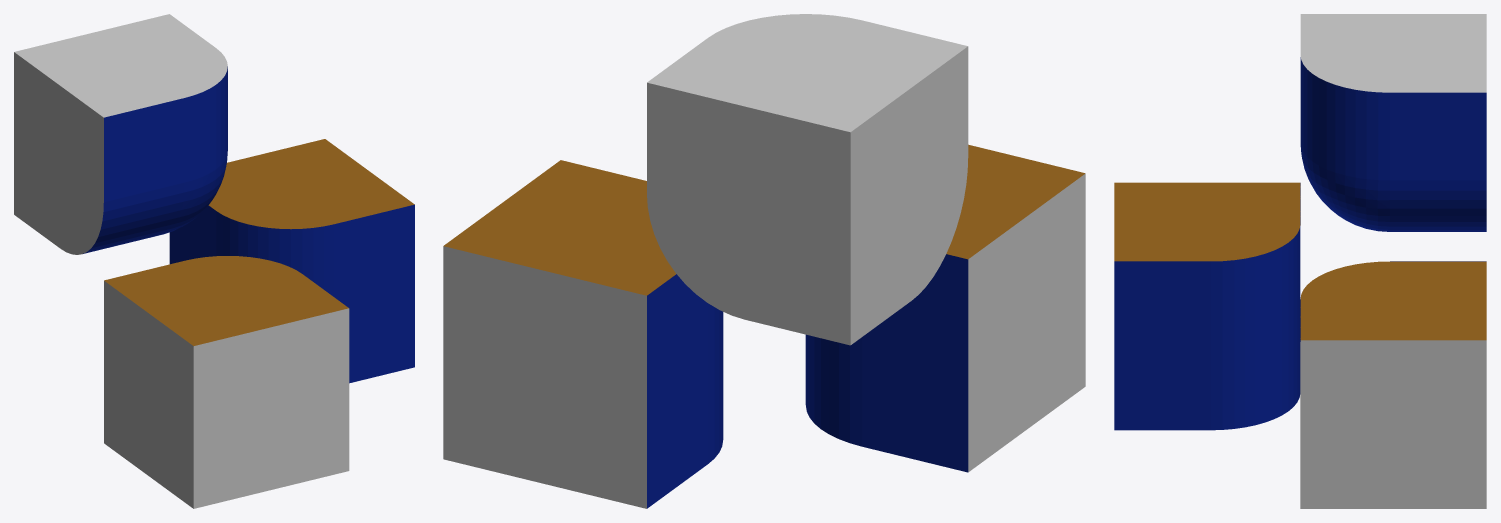
The model's file is case_26.fbx.
The picture shows the model from 3 angles, left to right: view 1: azimuth 30°, elevation 25°; view 2: azimuth 150°, elevation 25°; view 3: azimuth 270°, elevation 25°; orthographic projection. The views are drawn at different scales.
Visible parts, largest first — view 1: case_26; view 2: case_26; view 3: case_26.
Part boxes in pixels (bbox=[...]): case_26: bbox=[14, 14, 414, 508]; case_26: bbox=[443, 14, 1085, 508]; case_26: bbox=[1114, 14, 1486, 508].
Size of the model in its own units: 100 by 100 by 100.
